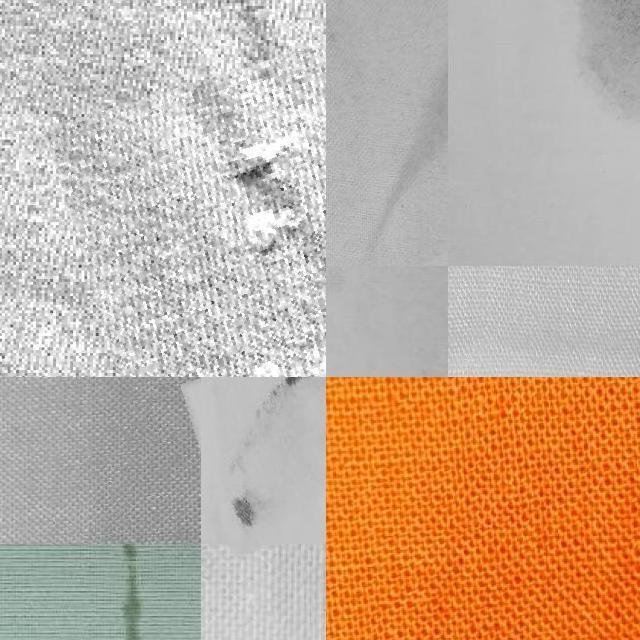Thread_other: (190, 377, 326, 542), (29, 544, 201, 640), (527, 0, 640, 124)
stains: (72, 38, 326, 377)
